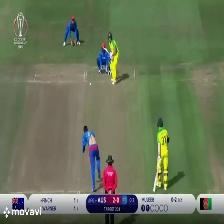ball: (88, 78, 94, 87)
batsman: (102, 30, 121, 85)
